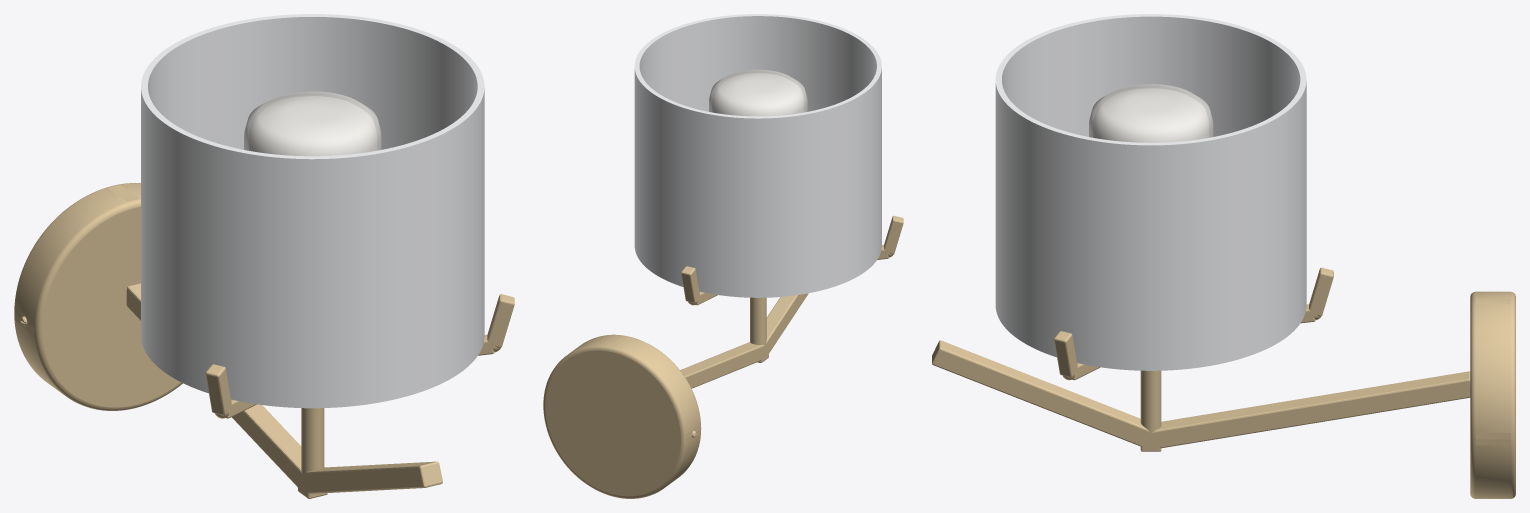
3 renders of one model, left to right at view 1: azimuth 30°, elevation 25°; view 2: azimuth 150°, elevation 25°; view 3: azimuth 270°, elevation 25°, orthographic. The views are drawn at different scales.
Parts seen in each view (by area): view 1: glass, metal, frost; view 2: glass, metal, frost; view 3: glass, metal, frost.
Boxes of the visible parts, x1,y1,x2,y2 form: glass: [141, 14, 484, 408]; metal: [14, 183, 514, 498]; frost: [244, 91, 381, 156]; glass: [634, 14, 881, 297]; metal: [543, 215, 903, 498]; frost: [709, 69, 807, 116]; glass: [995, 14, 1306, 370]; metal: [932, 267, 1515, 498]; frost: [1089, 84, 1213, 142].
Size of the model in its own units: 0.1556 by 0.218 by 0.2817.
